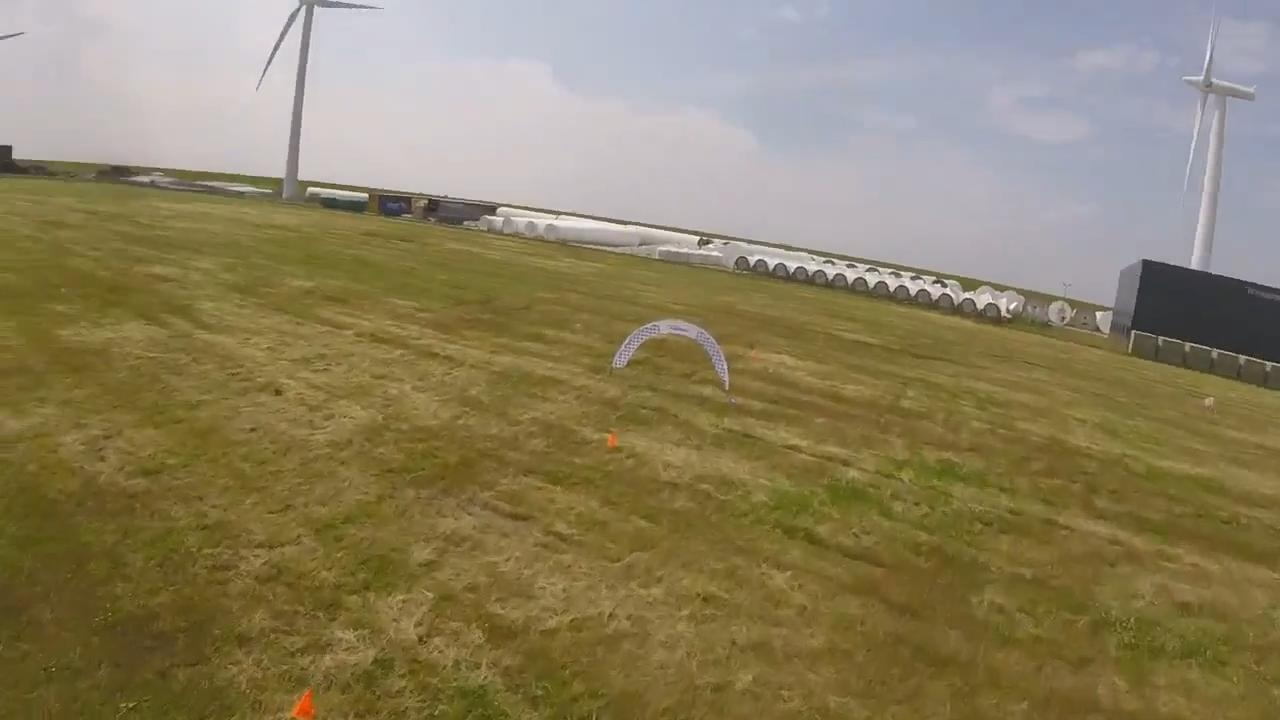gate: (608, 319, 730, 394)
